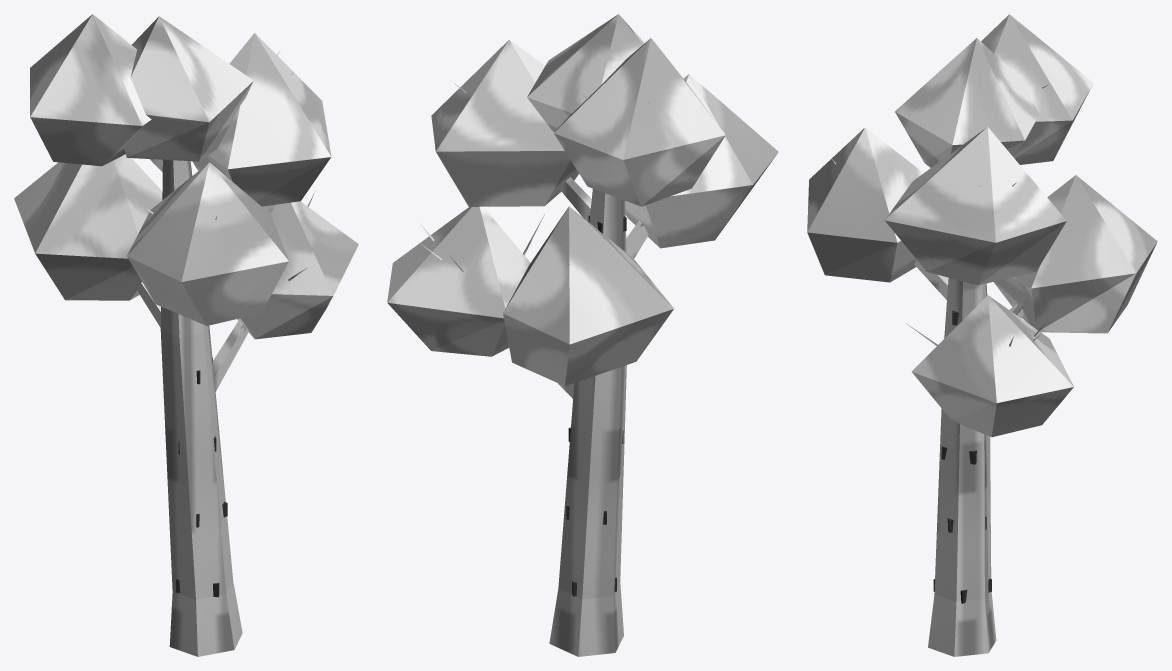
Rendered from tree_birch_2.obj.
3 views of the same model, side by side, from view 1: azimuth 30°, elevation 25°; view 2: azimuth 150°, elevation 25°; view 3: azimuth 270°, elevation 25° (orthographic). The views are drawn at different scales.
Visible parts, largest first — view 1: tree_birch_2; view 2: tree_birch_2; view 3: tree_birch_2.
Part boxes in pixels (left/top/right/bottom): tree_birch_2: left=14, top=14, right=358, bottom=656; tree_birch_2: left=387, top=14, right=778, bottom=656; tree_birch_2: left=807, top=14, right=1157, bottom=656.
Size of the model in its own units: 0.5773 by 1.06 by 0.5712.
